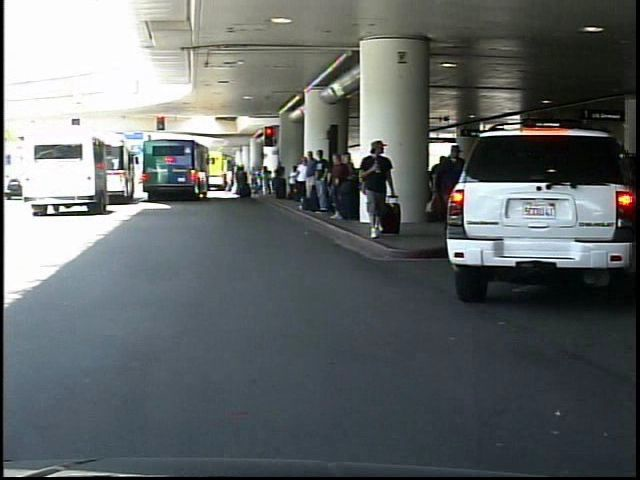person: (414, 134, 466, 244), (363, 136, 402, 243)
